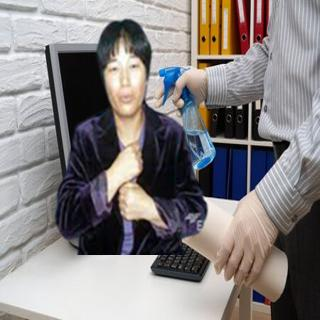CAREFUL: (109, 140, 151, 228)
